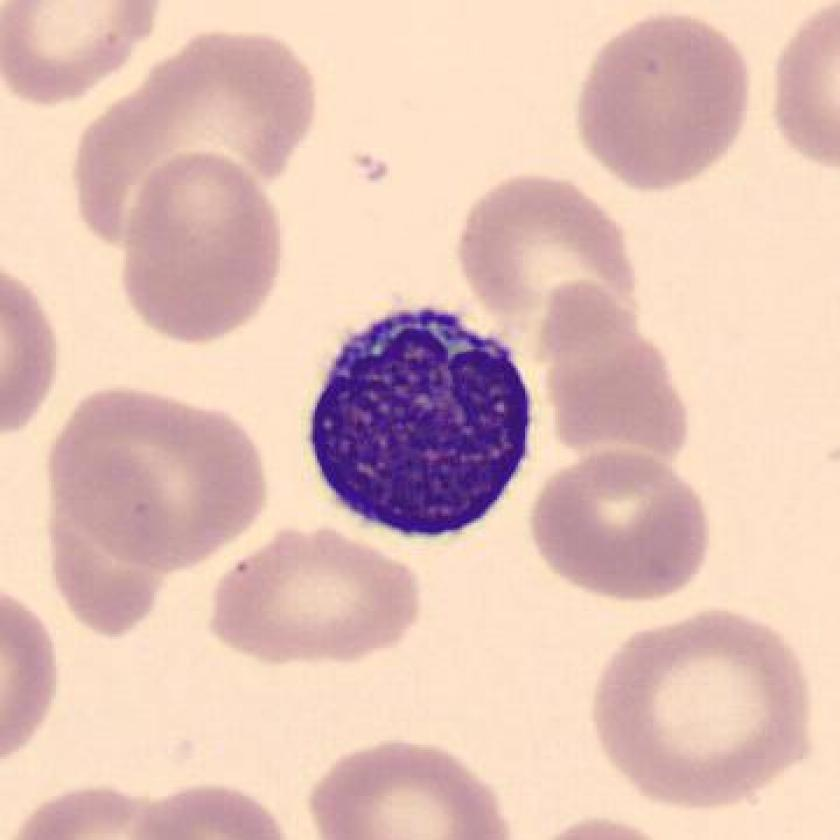lymphocyte: (300, 293, 552, 557)
